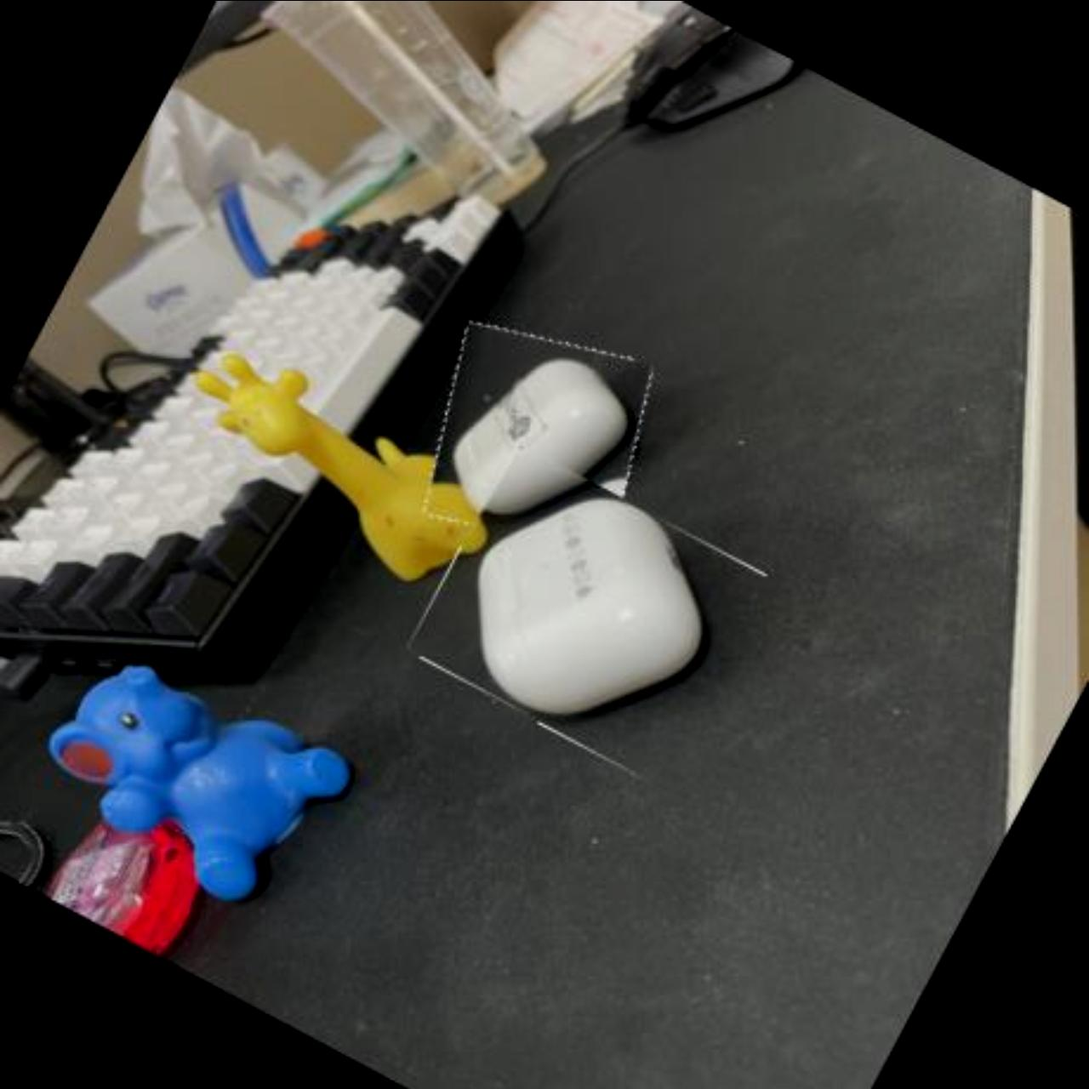AirPods: (406, 442, 780, 792), (395, 294, 684, 584)
